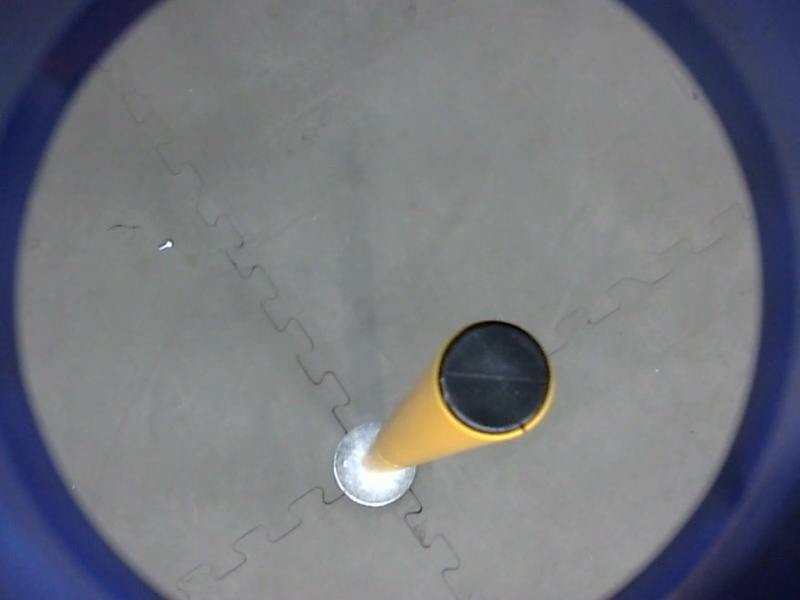tip: (431, 312, 563, 447)
